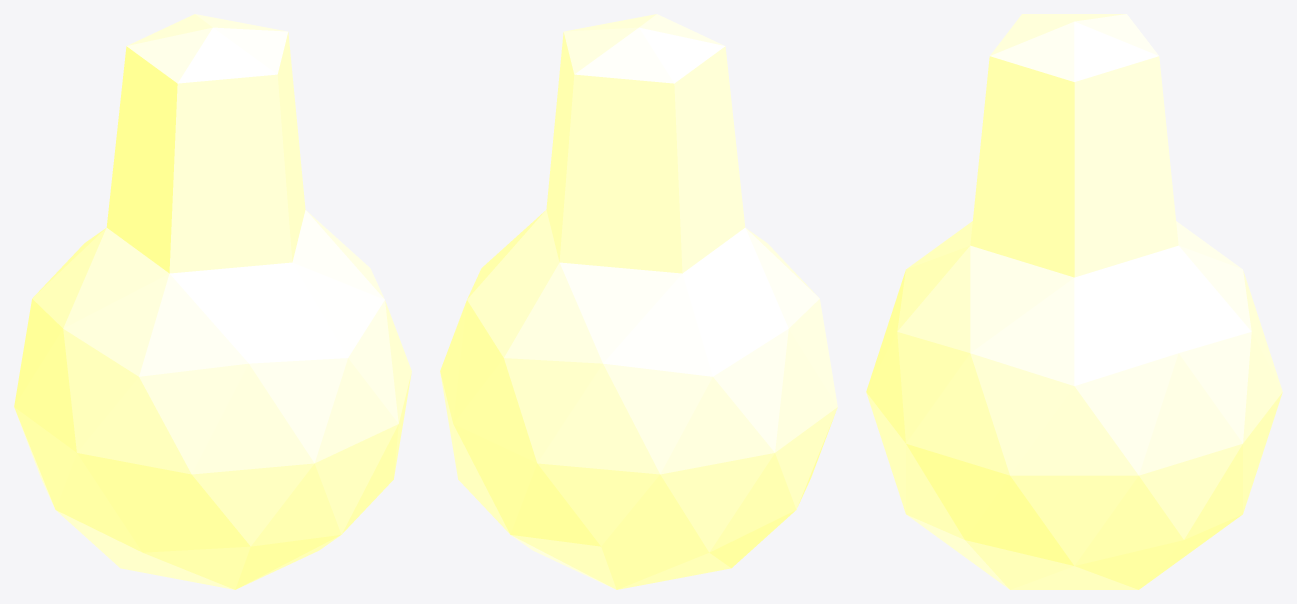
The model's file is bulb_test.glb.
3 renders of one model, left to right at view 1: azimuth 30°, elevation 25°; view 2: azimuth 150°, elevation 25°; view 3: azimuth 270°, elevation 25°, orthographic. The views are drawn at different scales.
Parts seen in each view (by area): view 1: Icosphere; view 2: Icosphere; view 3: Icosphere.
Boxes of the visible parts, left/top/right/bottom form: Icosphere: left=14, top=14, right=411, bottom=589; Icosphere: left=440, top=14, right=837, bottom=589; Icosphere: left=866, top=14, right=1282, bottom=589.
Bounding box in the file's own units: 1.9 × 2.96 × 2.
